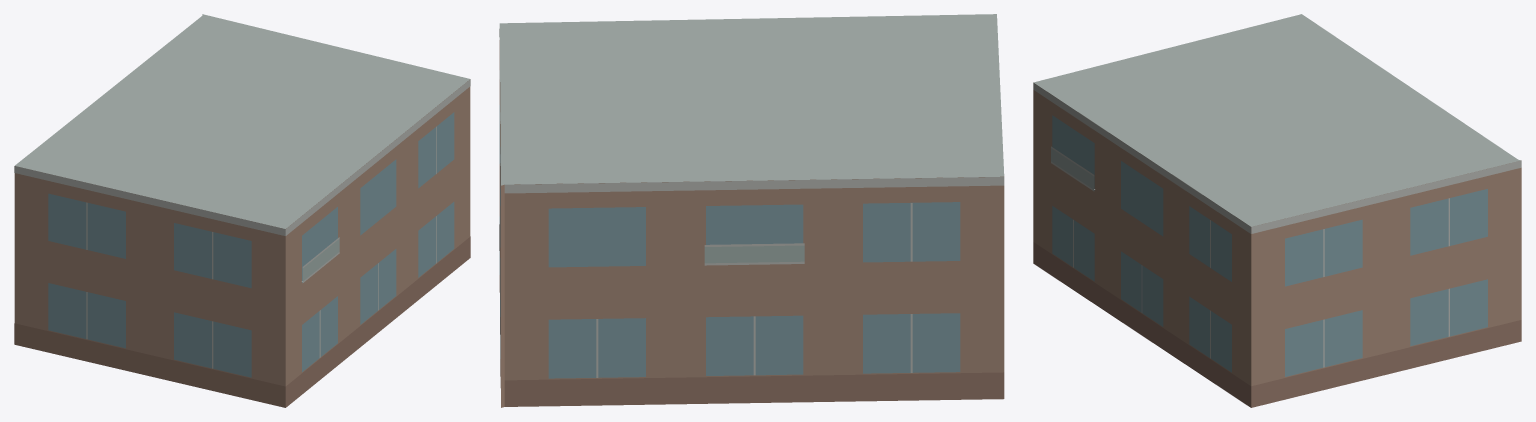
Rendered from survey-upis-32768777.glb.
The picture shows the model from 3 angles, left to right: view 1: azimuth 30°, elevation 25°; view 2: azimuth 150°, elevation 25°; view 3: azimuth 270°, elevation 25°; orthographic projection. The views are drawn at different scales.
Parts seen in each view (by area): view 1: survey-upis-32768777.tmp; view 2: survey-upis-32768777.tmp; view 3: survey-upis-32768777.tmp.
Part boxes in pixels (<box>): survey-upis-32768777.tmp: <box>14,14,470,407</box>; survey-upis-32768777.tmp: <box>499,14,1004,407</box>; survey-upis-32768777.tmp: <box>1033,14,1521,407</box>.
Size of the model in its own units: 15.39 by 6.1 by 14.92.
